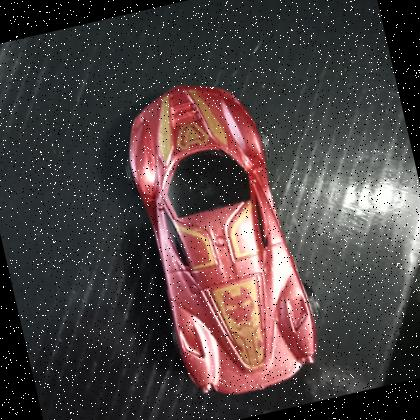Car: (102, 58, 340, 416)
